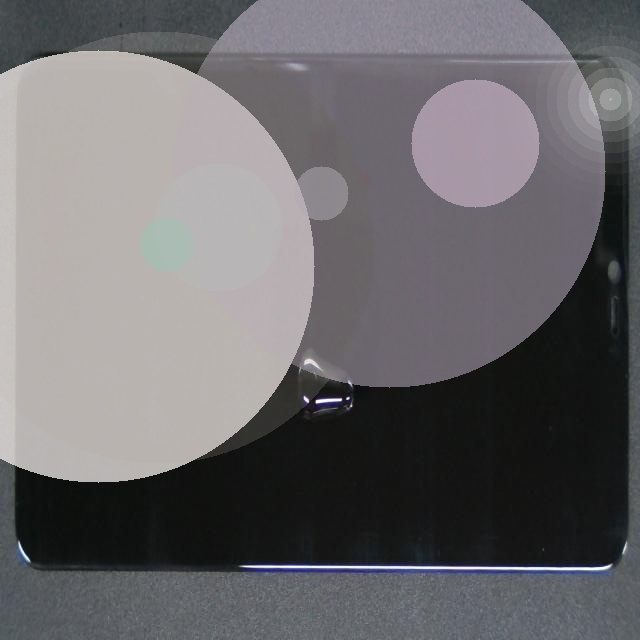oil: (194, 199, 519, 548)
